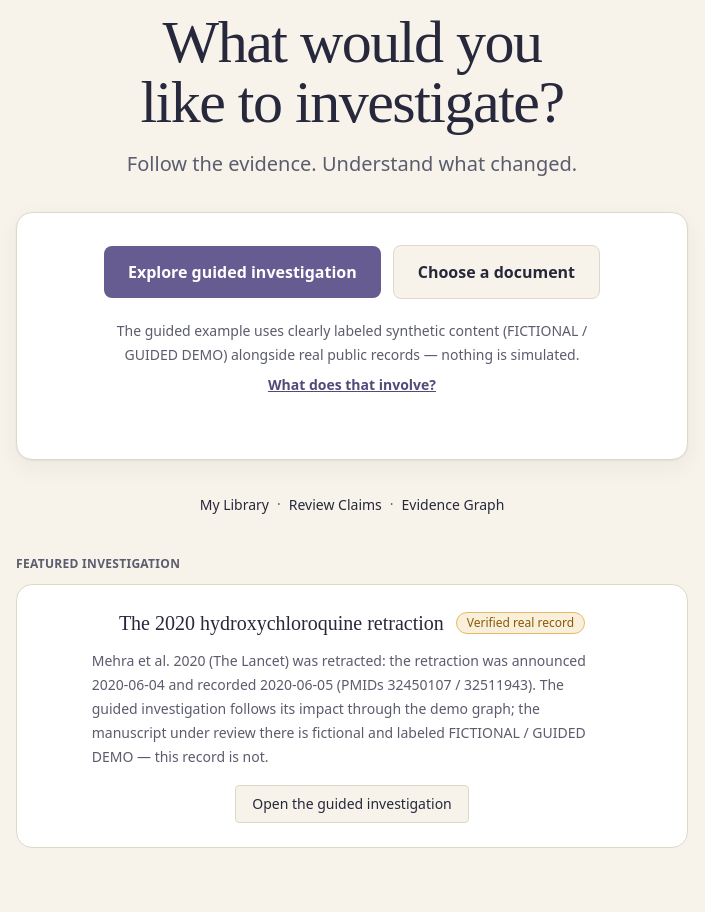
LandingPage (Wave U1 entry experience) › shows the quiet integrity line without expansion and keeps the document picker collapsed by default
Expected: the text "clearly labeled synthetic content (FICTIONAL / GUIDED DEMO) alongside real public records — nothing is simulated." is shown, [117,321,587,364]
// Expanding reveals the real import flow untouched.
Step 1. Click the button "Choose a document" → [496, 272], box [393,245,600,299]
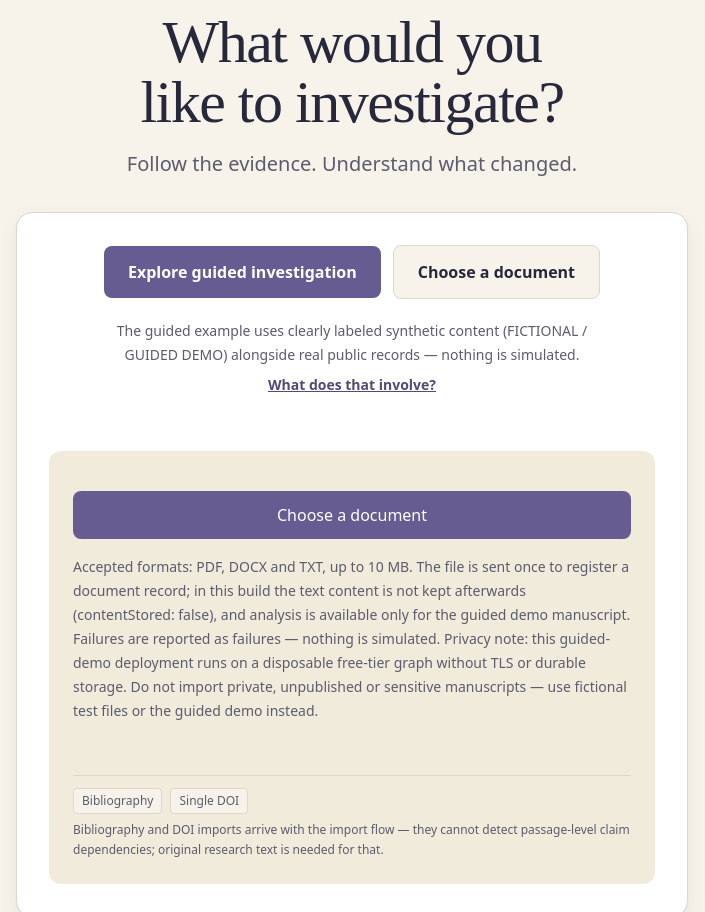
Now the element with test id "import-panel" is shown, box [73,491,631,759]
